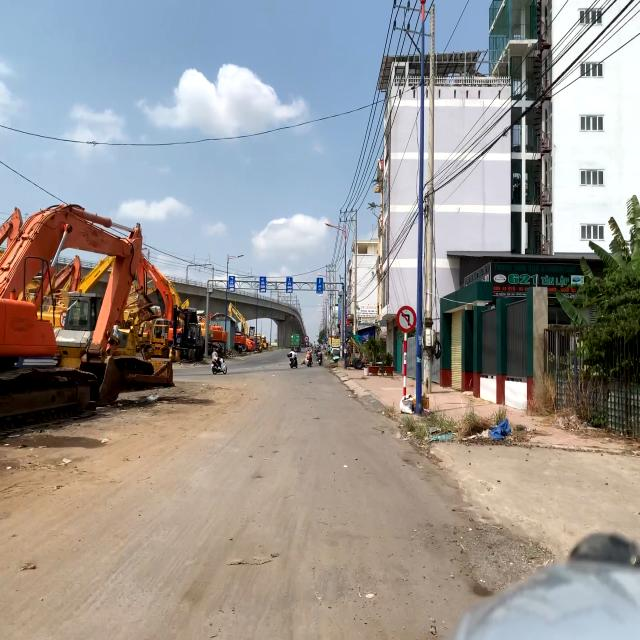P.123a: (395, 304, 417, 333)
